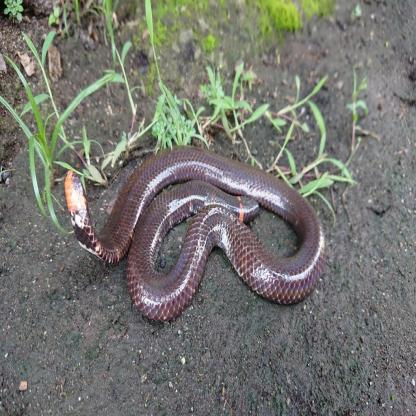Snake: (62, 140, 330, 326)
